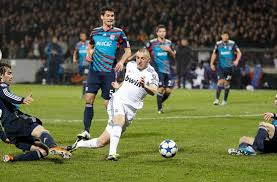10+: (2, 1, 275, 161)
down: (1, 61, 75, 166), (225, 95, 277, 157)
